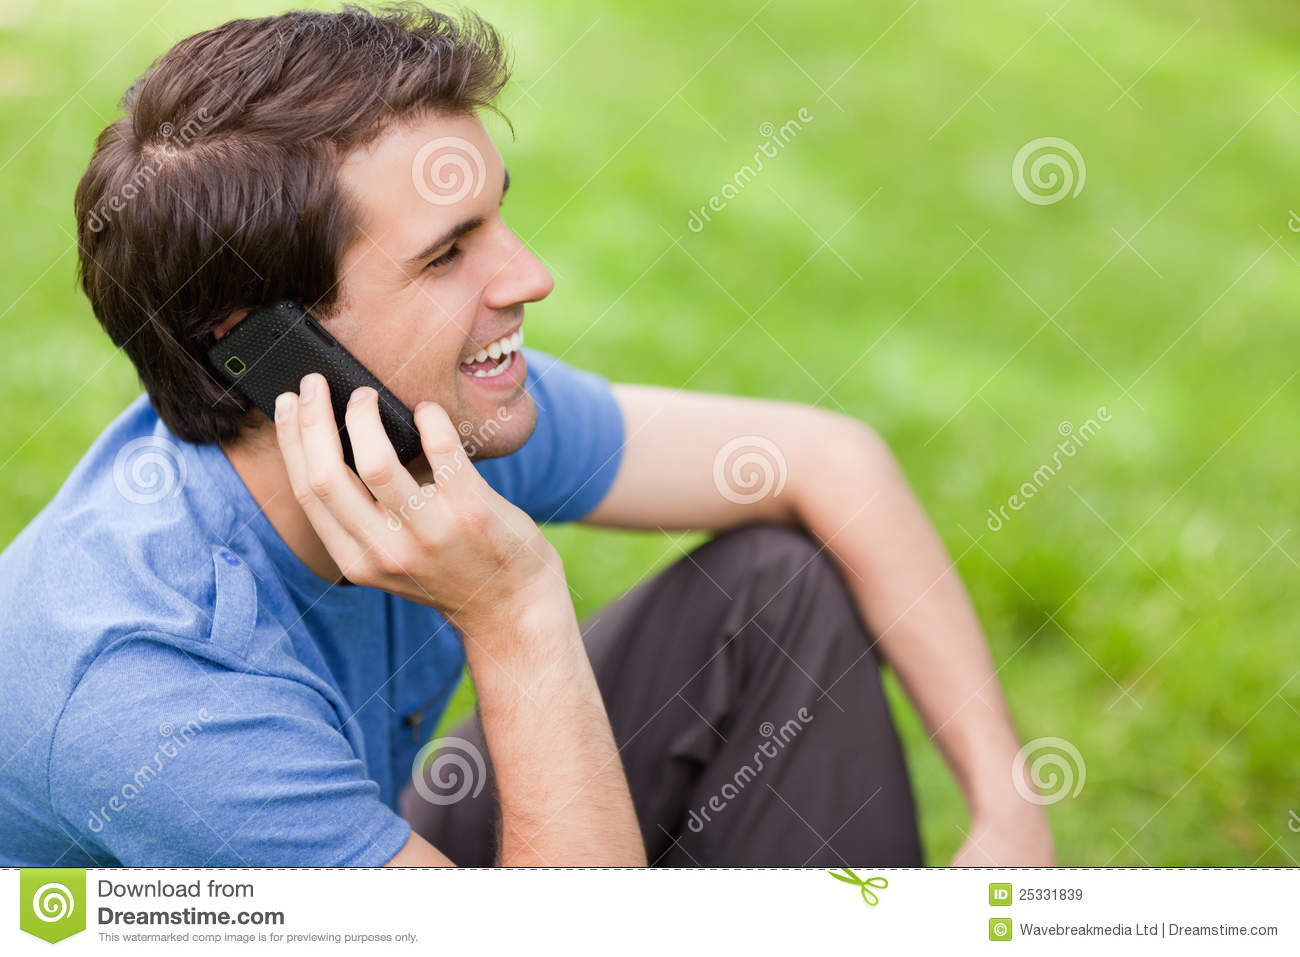phone: (219, 295, 426, 495)
talk: (213, 163, 559, 643)
